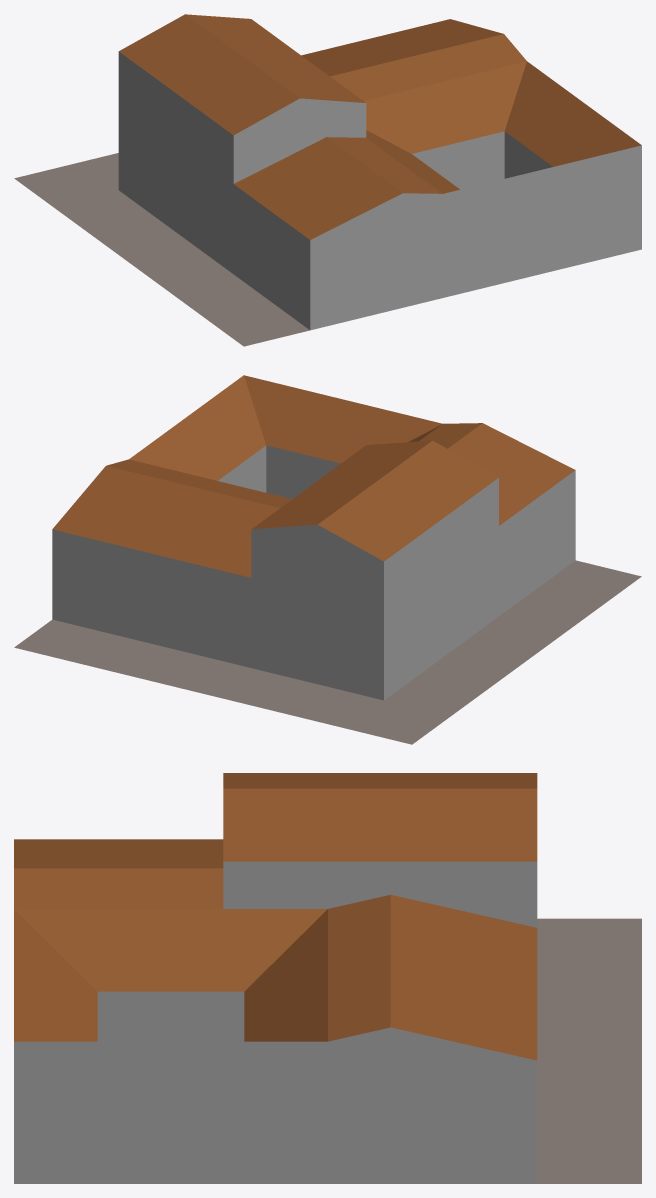
3 renders of one model, top to bottom at view 1: azimuth 30°, elevation 25°; view 2: azimuth 150°, elevation 25°; view 3: azimuth 270°, elevation 25°, orthographic. The views are drawn at different scales.
Parts seen in each view (by area): view 1: rr2r; view 2: rr2r; view 3: rr2r.
Boxes of the visible parts, x1=… form: rr2r: x1=14, y1=14, x2=641, y2=346; rr2r: x1=14, y1=375, x2=641, y2=744; rr2r: x1=14, y1=773, x2=641, y2=1183.
Bounding box in the file's own units: 30 × 11.5 × 30.
